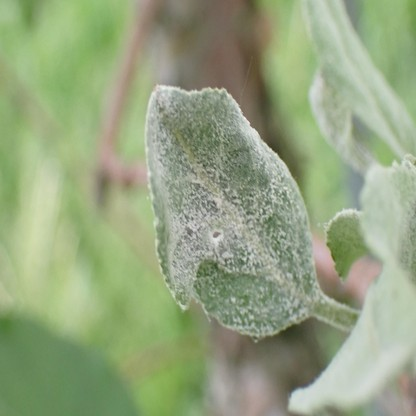powdery_mildew: (145, 84, 319, 339), (288, 157, 416, 415), (303, 0, 416, 156), (309, 71, 351, 145), (327, 210, 367, 281)
